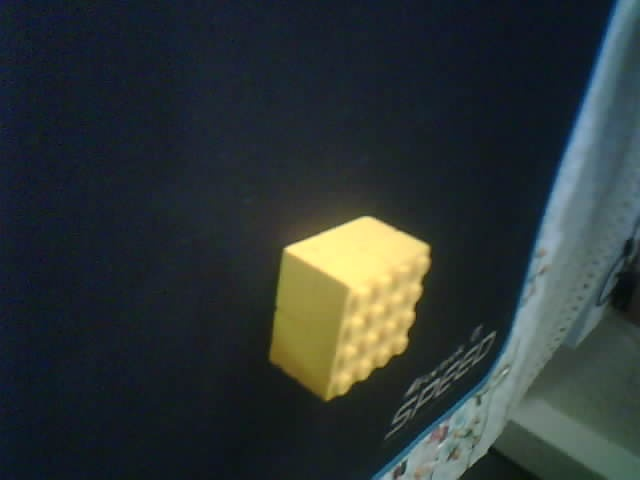lego: (267, 214, 431, 404)
